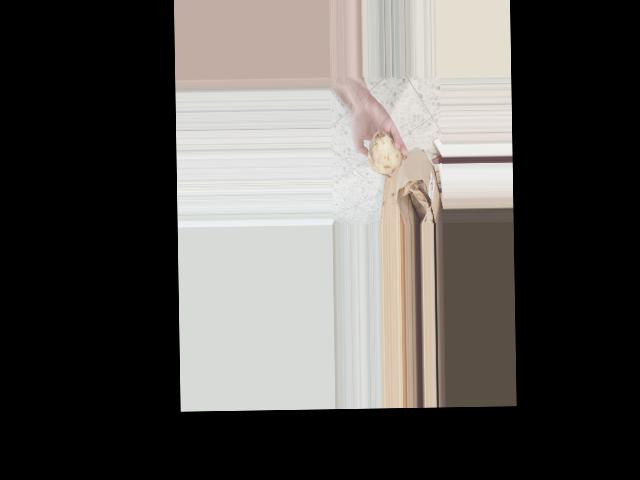onion: (364, 129, 404, 177)
